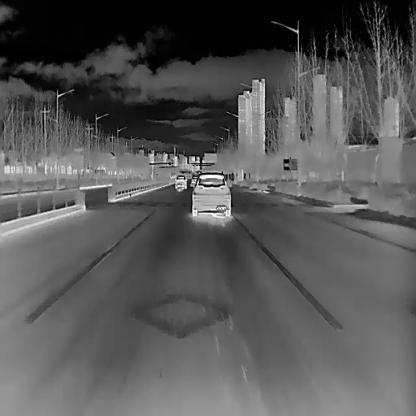car: (191, 170, 230, 216), (174, 173, 186, 189), (190, 174, 198, 184)
